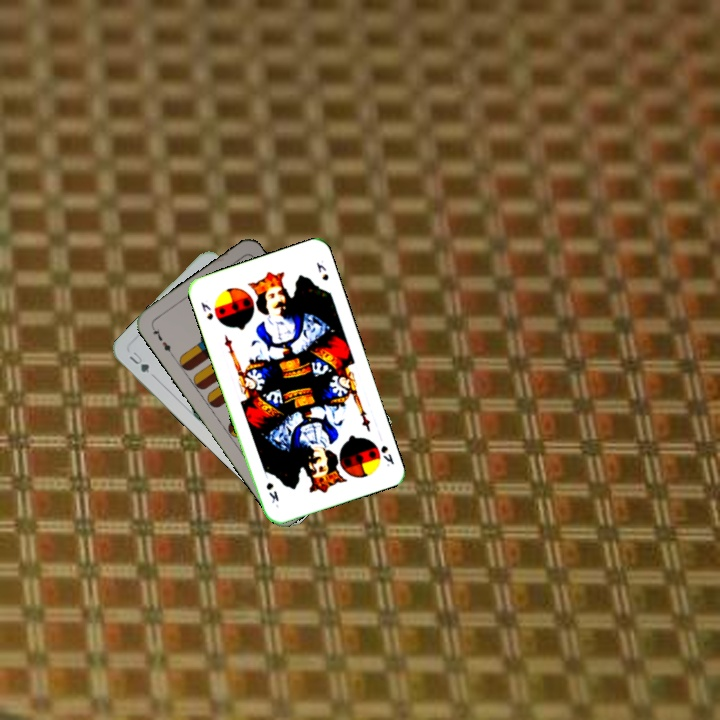E7: (147, 322, 175, 358)
GU: (125, 347, 152, 376)
SK: (377, 441, 397, 469), (197, 298, 216, 322)
